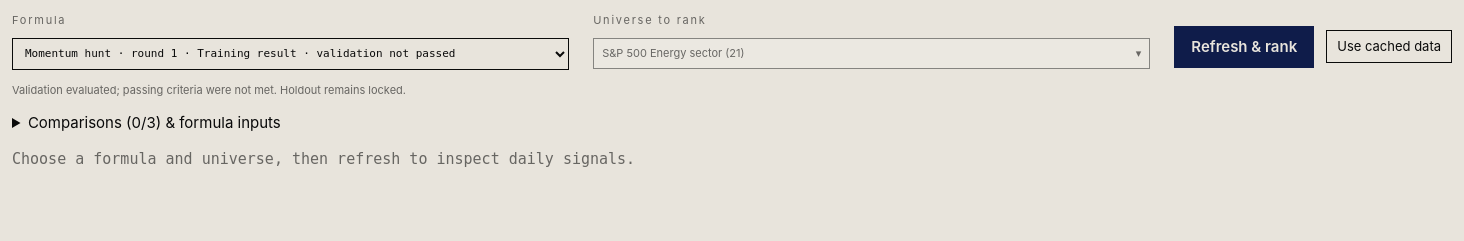
Test: Signals workspace › shows provider failures and does not label failed validation as passed
The image size is (1464, 241).
Click the button "Refresh & rank": (1244, 47) [1174,26,1314,68]
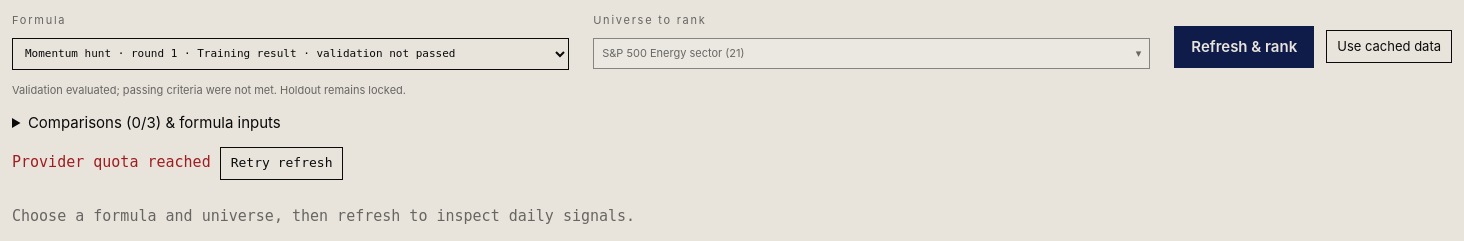
Expected: the text "passing criteria were not met" is shown, [12,83,406,97]
Expected: the message shows "Provider quota reached", [12,153,211,171]
Expected: the button "Retry refresh" is enabled, [220,147,344,180]
